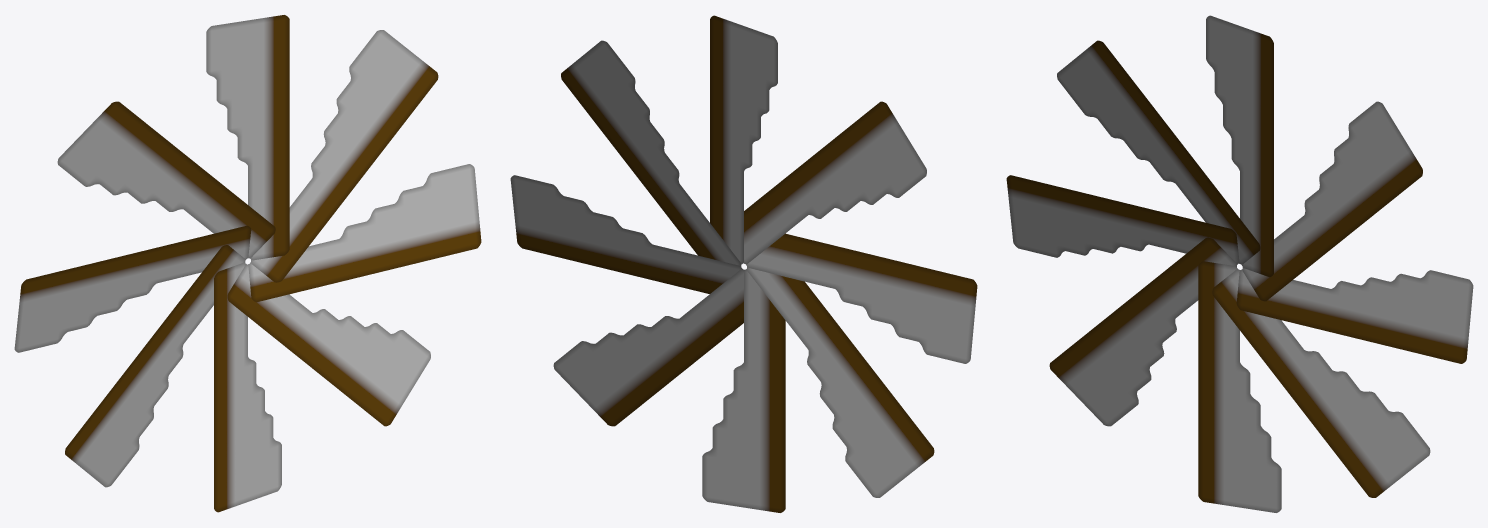
The model's file is helice_moinho.obj.
The picture shows the model from 3 angles, left to right: view 1: azimuth 30°, elevation 25°; view 2: azimuth 150°, elevation 25°; view 3: azimuth 330°, elevation 25°; orthographic projection.
Parts seen in each view (by area): view 1: plane; view 2: plane; view 3: plane.
Boxes of the visible parts, x1,y1,x2,y2 form: plane: [14, 15, 481, 512]; plane: [510, 15, 977, 512]; plane: [1006, 15, 1473, 512].
Bounding box in the file's own units: 3 × 3 × 0.0868.
Materials: 1 (1 with a texture image).
